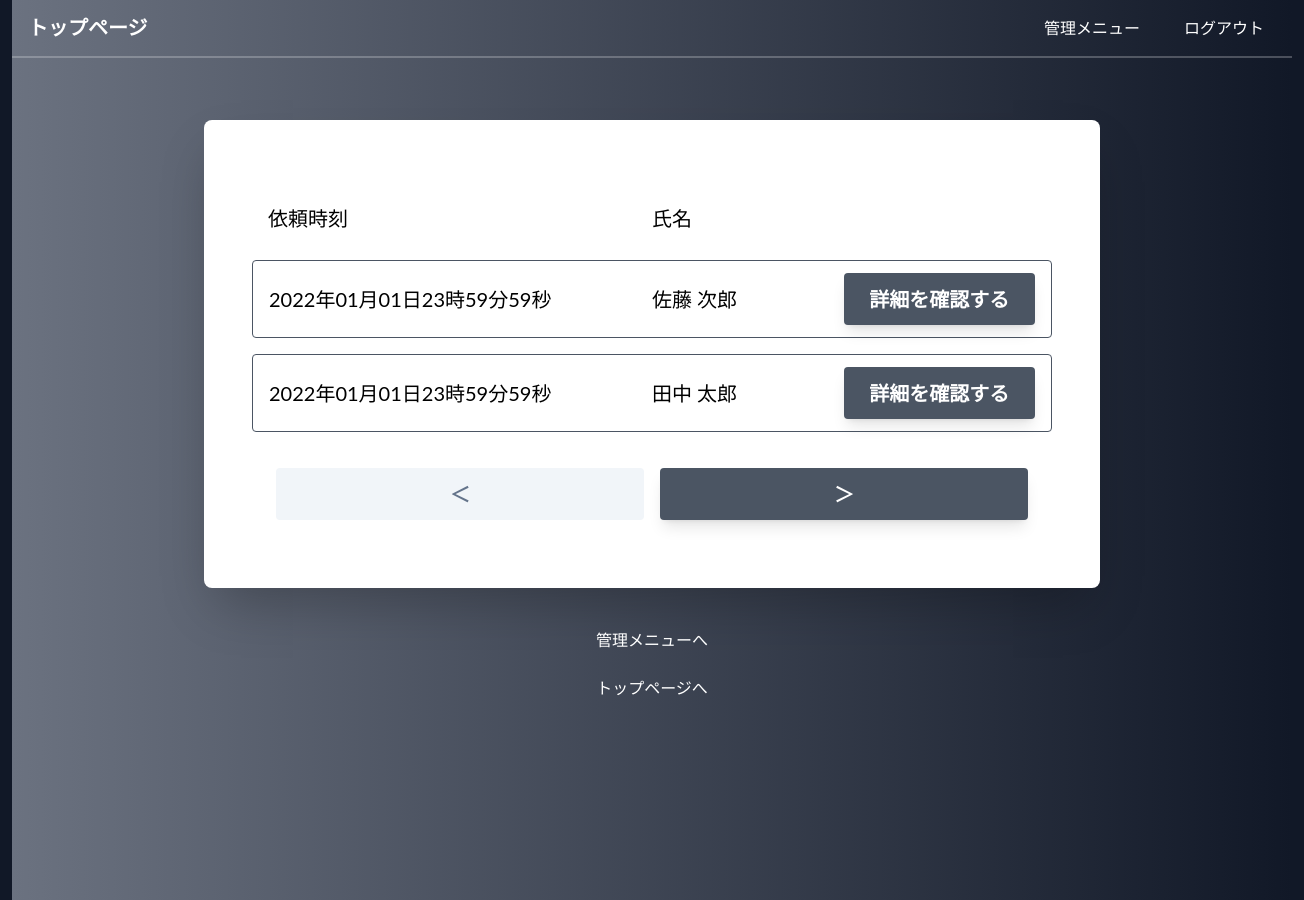
UpdateIdentityRequestListPage.vue › moves to second page if next is pushed, then moves to first page if previous is pushed
expect the element with test id "list" shows "依頼時刻": met, box [268, 206, 348, 230]
expect the element with test id "list" shows "氏名": met, box [652, 206, 692, 230]
Click the button with test id "next-button": (844, 494) [660, 468, 1028, 520]
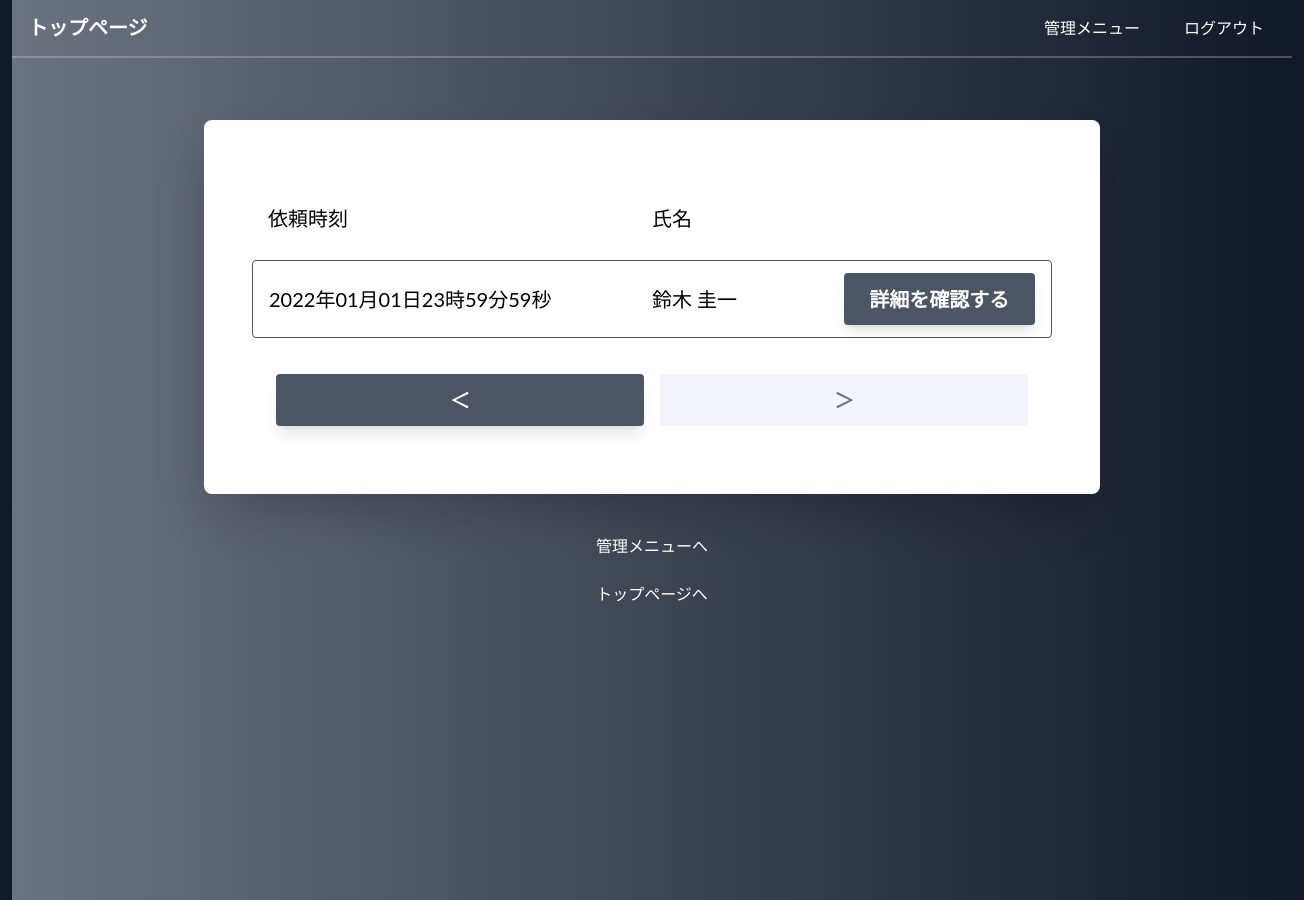
expect the element with test id "list" shows "依頼時刻": met, box [268, 206, 348, 230]
expect the element with test id "list" shows "鈴木 圭一": met, box [652, 287, 737, 311]
Click the button with test id "prev-button": (460, 400) [276, 374, 644, 426]
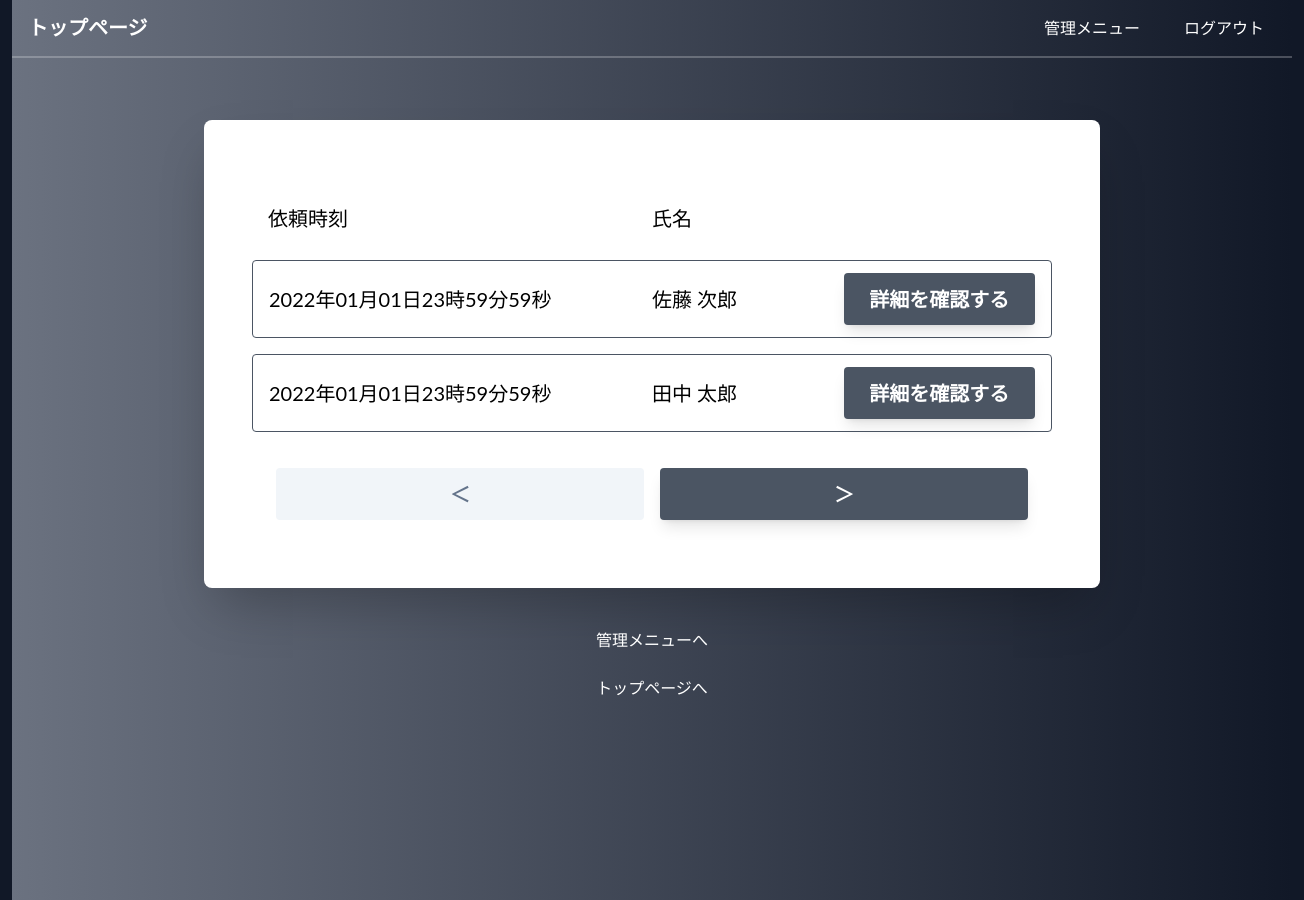
expect the element with test id "list" shows "依頼時刻": met, box [268, 206, 348, 230]
expect the element with test id "list" shows "佐藤 次郎": met, box [652, 287, 737, 311]
expect the element with test id "list" shows "田中 太郎": met, box [652, 381, 737, 405]
